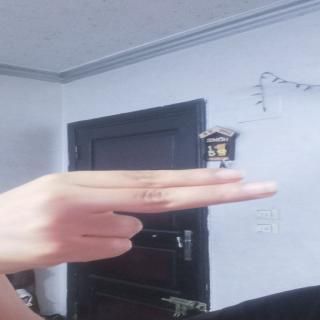AYN: (0, 165, 285, 278)
